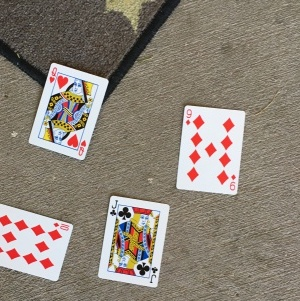card: (27, 62, 108, 164), (95, 192, 172, 288), (176, 105, 245, 196)
